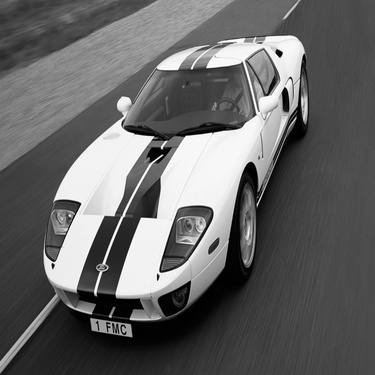car: (34, 27, 318, 347)
